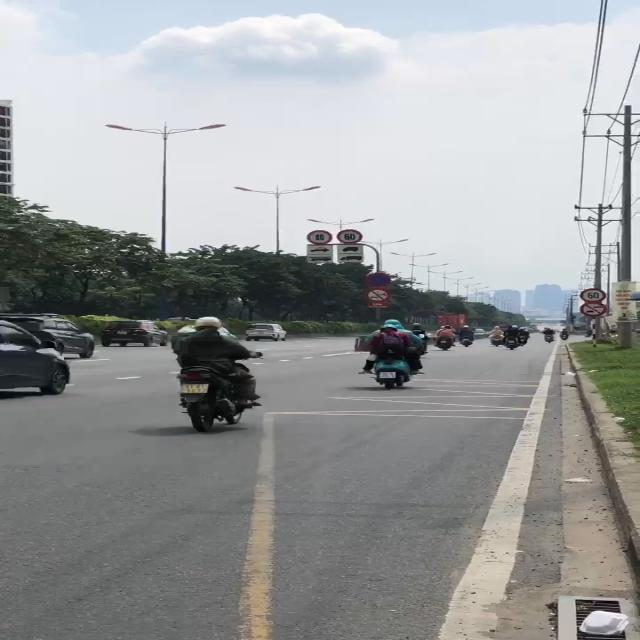Bien bao toc do toi da cho phep: (336, 227, 367, 245), (577, 287, 606, 302), (306, 228, 331, 245)
